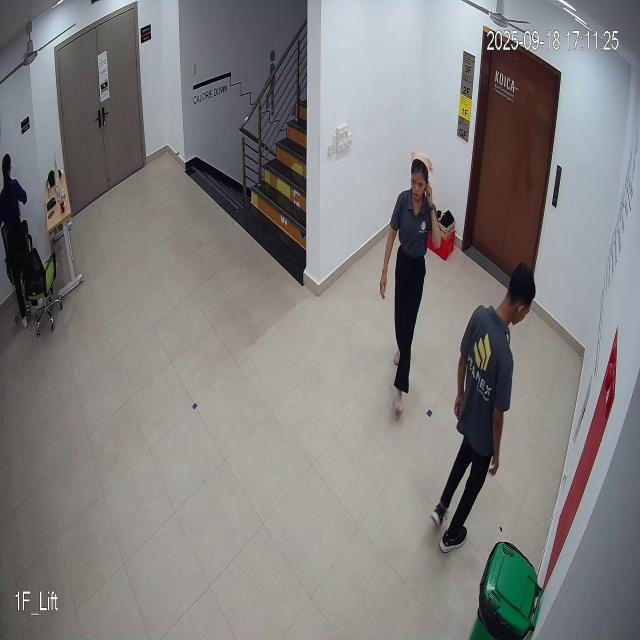face: (409, 148, 433, 204)
